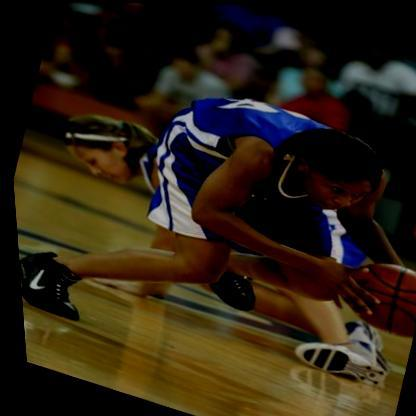basketball: (330, 247, 416, 339)
